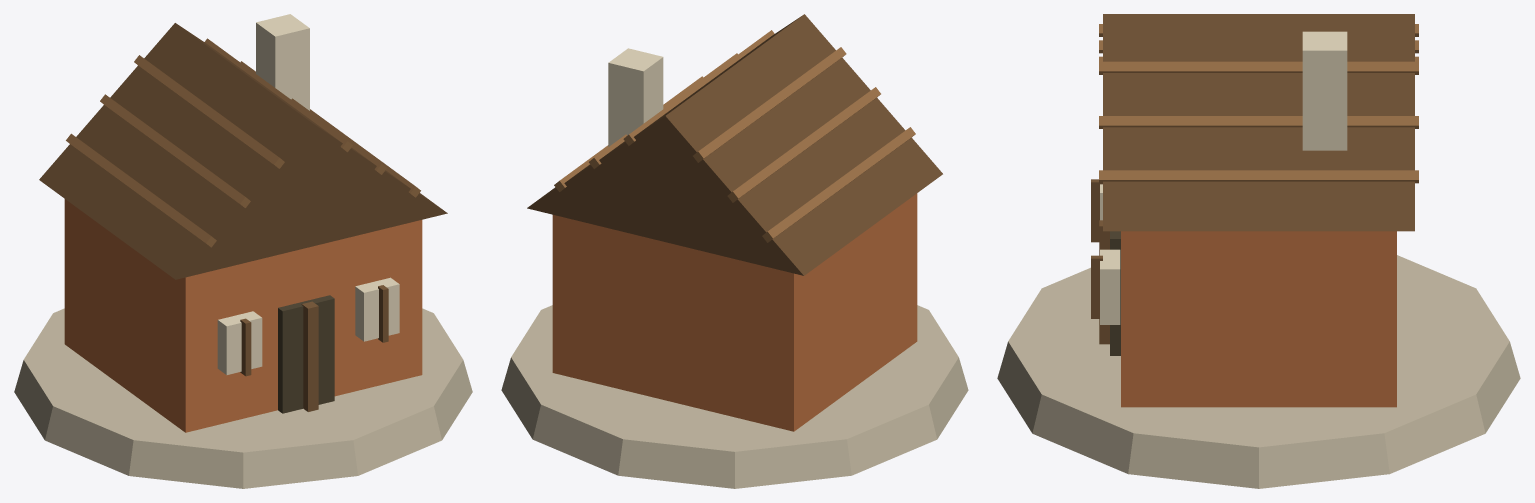
The model's file is building-settlement.glb.
The picture shows the model from 3 angles, left to right: view 1: azimuth 30°, elevation 25°; view 2: azimuth 150°, elevation 25°; view 3: azimuth 270°, elevation 25°; orthographic projection. The views are drawn at different scales.
Parts seen in each view (by area): view 1: building-settlement.005, building-settlement.001, building-settlement, building-settlement.004, building-settlement.006, building-settlement.002, building-settlement.003; view 2: building-settlement.001, building-settlement.005, building-settlement, building-settlement.006, building-settlement.004; view 3: building-settlement, building-settlement.005, building-settlement.001, building-settlement.006, building-settlement.004, building-settlement.003, building-settlement.002.
Part boxes in pixels (x1,y1,x2,y2): building-settlement.005: (39,23,447,279); building-settlement.001: (64,199,422,432); building-settlement: (14,308,472,488); building-settlement.004: (217,14,399,374); building-settlement.006: (66,38,420,247); building-settlement.002: (278,295,334,413); building-settlement.003: (240,285,388,411); building-settlement.001: (552,193,917,431); building-settlement.005: (527,14,942,275); building-settlement: (501,305,968,488); building-settlement.006: (554,30,915,242); building-settlement.004: (608,48,663,146); building-settlement: (997,255,1520,488); building-settlement.005: (1103,14,1414,231); building-settlement.001: (1121,231,1396,407); building-settlement.006: (1099,24,1418,183); building-settlement.004: (1100,31,1347,324); building-settlement.003: (1091,179,1109,344); building-settlement.002: (1110,231,1120,355).
Size of the model in its own units: 0.436 by 0.345 by 0.436.
